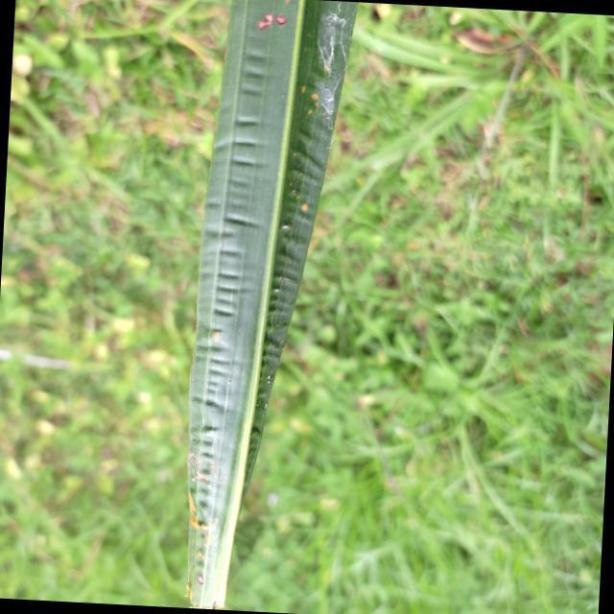Boron: (184, 0, 364, 614)
